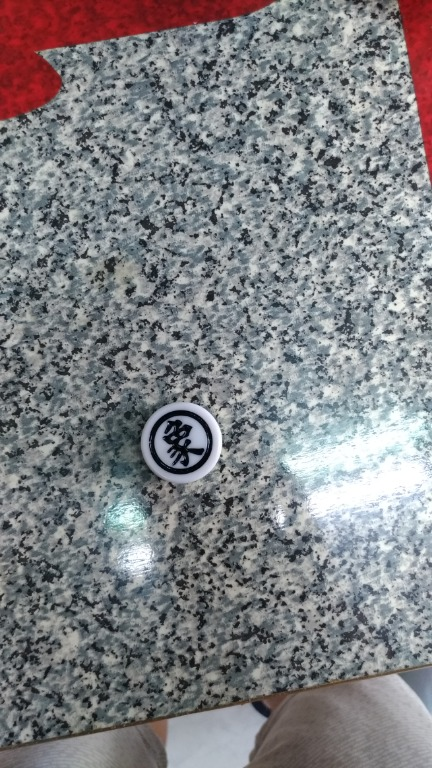b-elephant: (127, 395, 249, 497)
